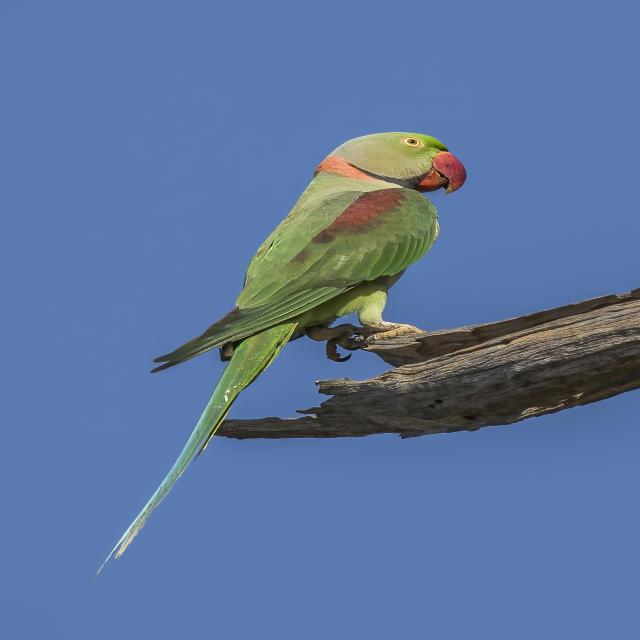Parrot: (97, 131, 468, 568)
